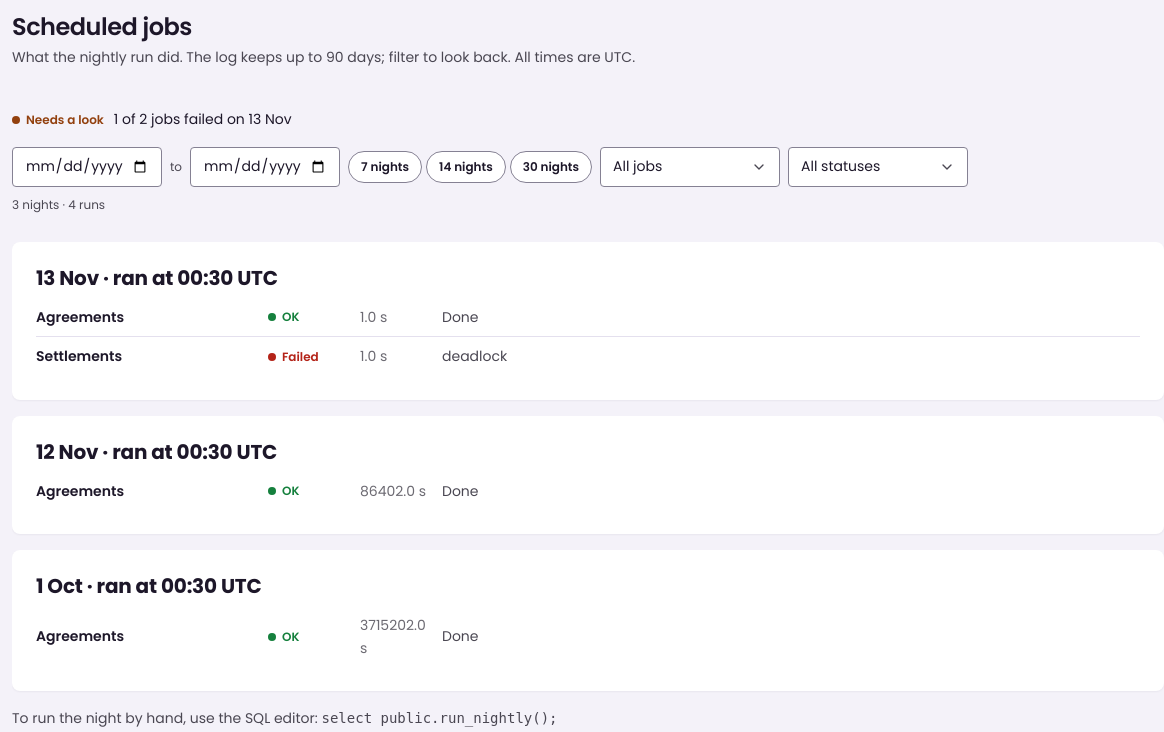
it: OperatorJobs › filters › filters by status and job, and the health line stays on the latest night
Expected: the text "3 nights · 4 runs" is shown, [12,196,105,213]
Click the dropdown labelled "status" at (878, 167), box [788,147,968,187]
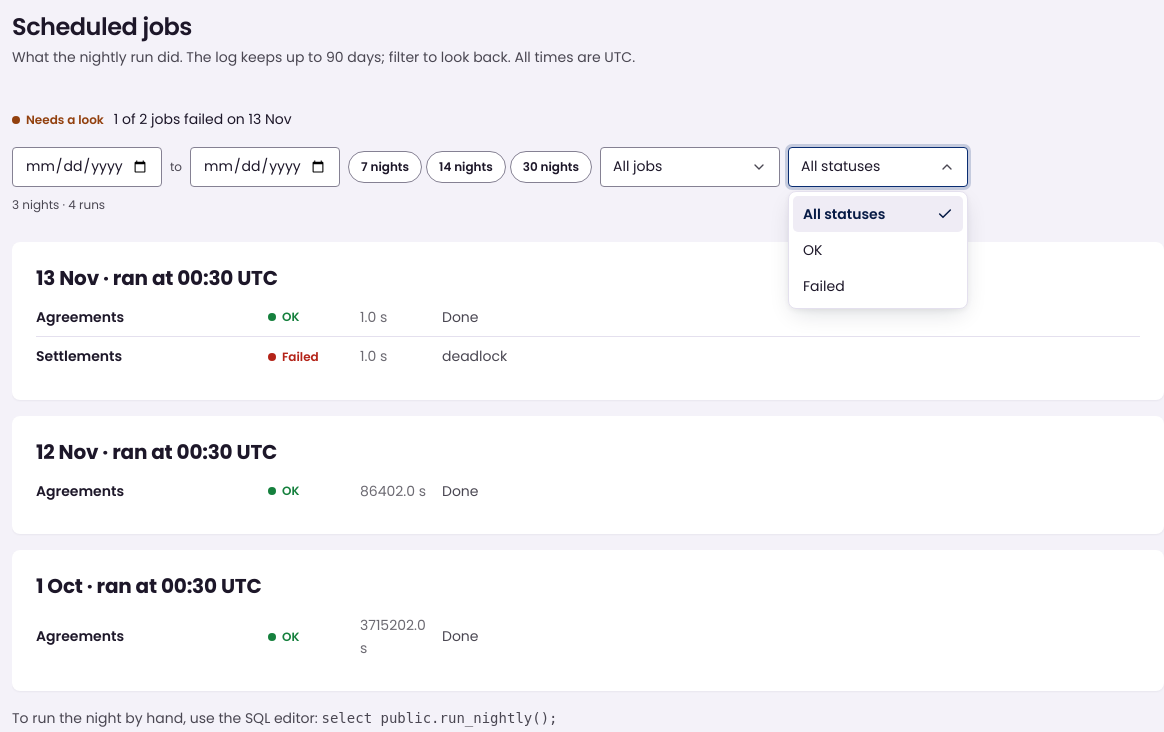
Click the option "Failed" at (824, 286), box [803,276,845,296]
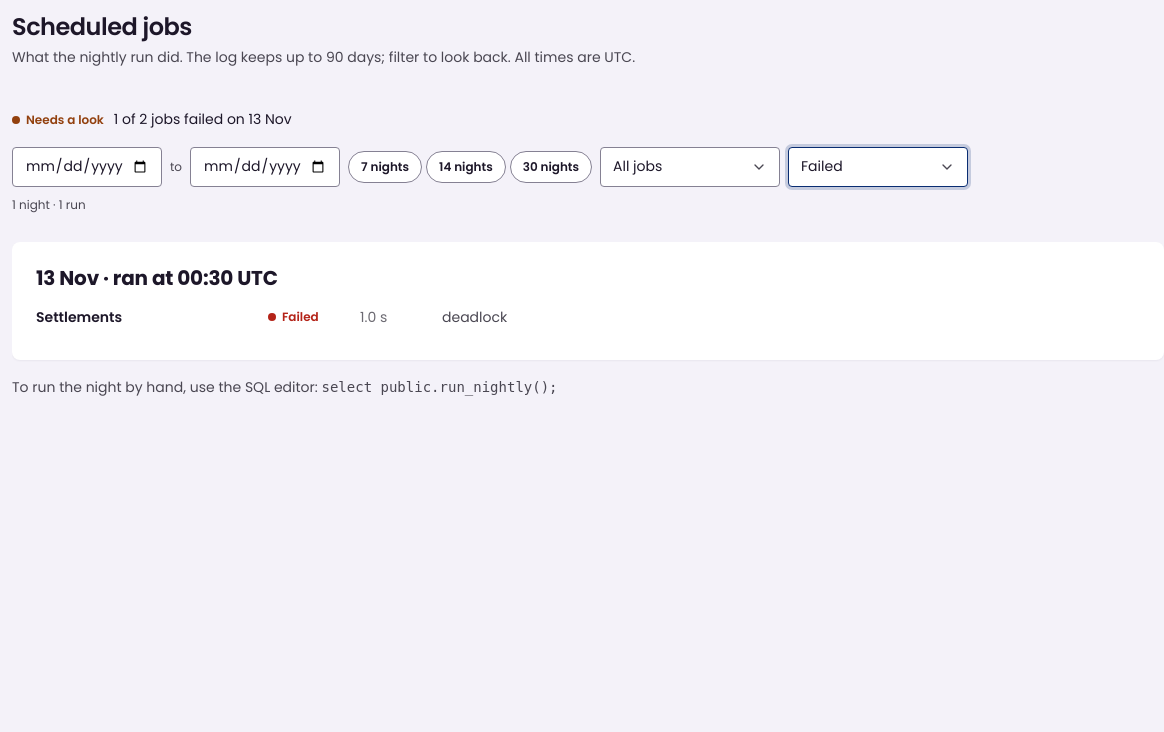
Expected: the text "1 of 2 jobs failed on 13 Nov" is shown, [114,108,292,131]
Result: the text "1 night · 1 run" is shown at [12,196,86,213]
Click the dropdown named "Status" at (878, 167), box [788,147,968,187]
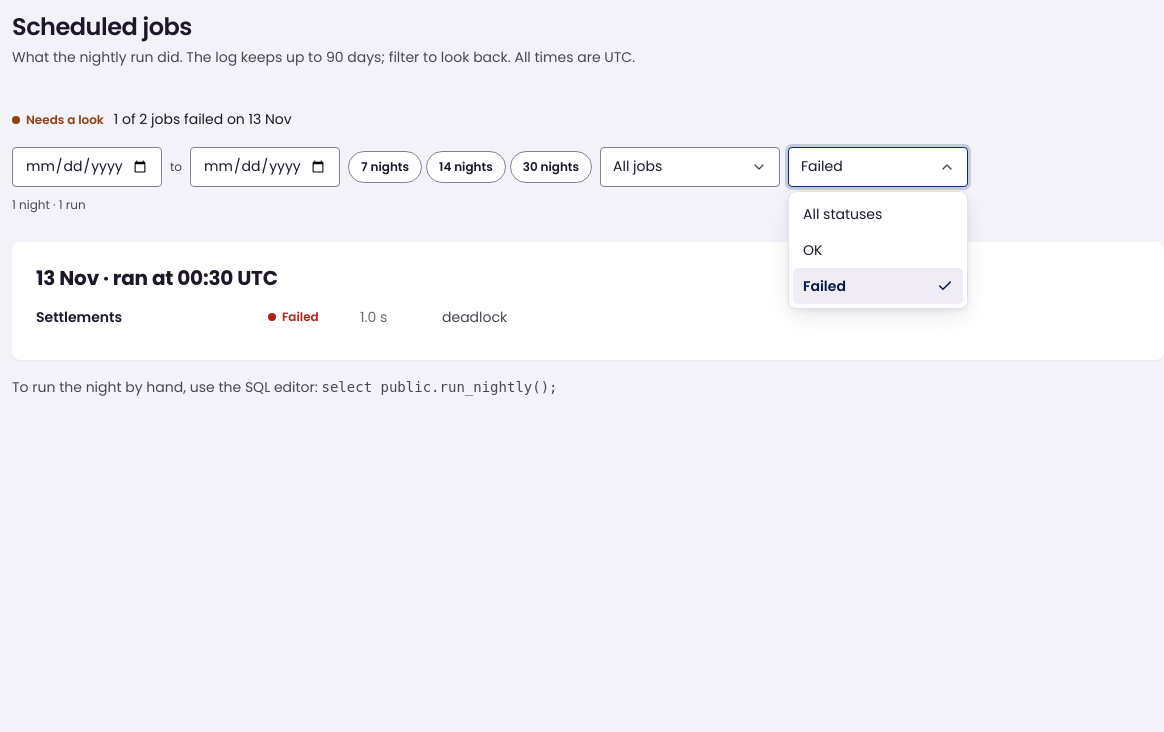
Click the option "All statuses" at (843, 214), box [803,204,882,224]
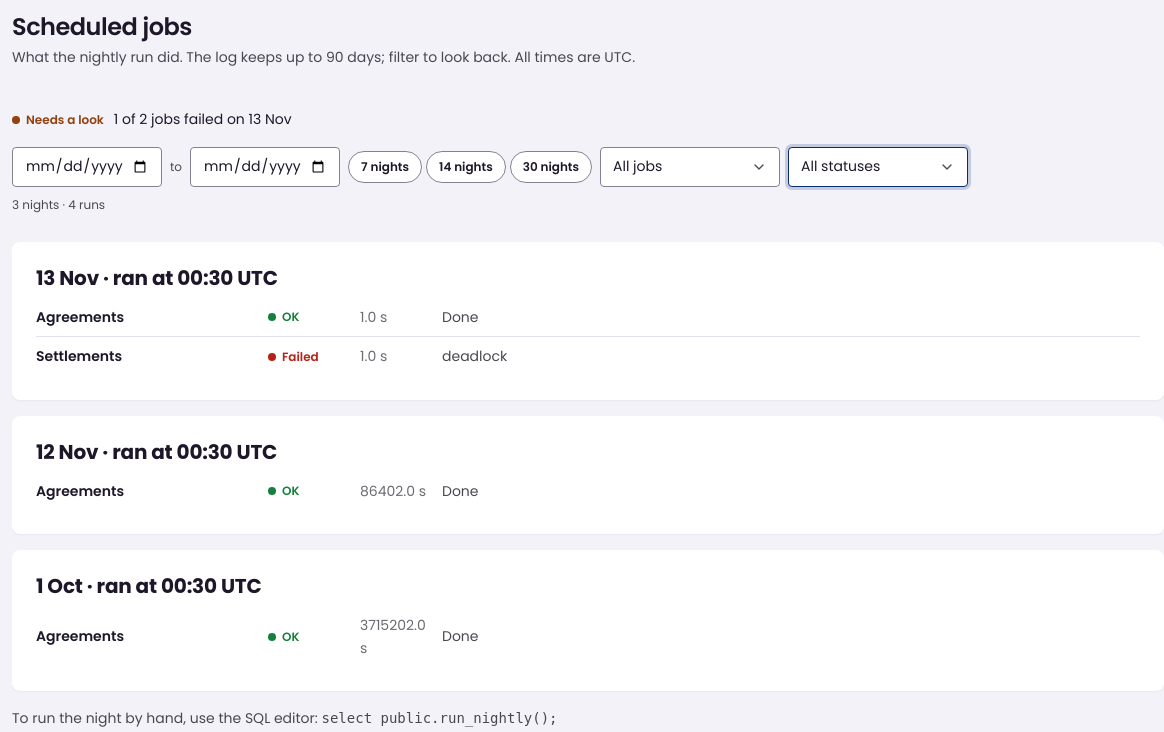
Click the dropdown labelled "job" at (690, 167), box [600,147,780,187]
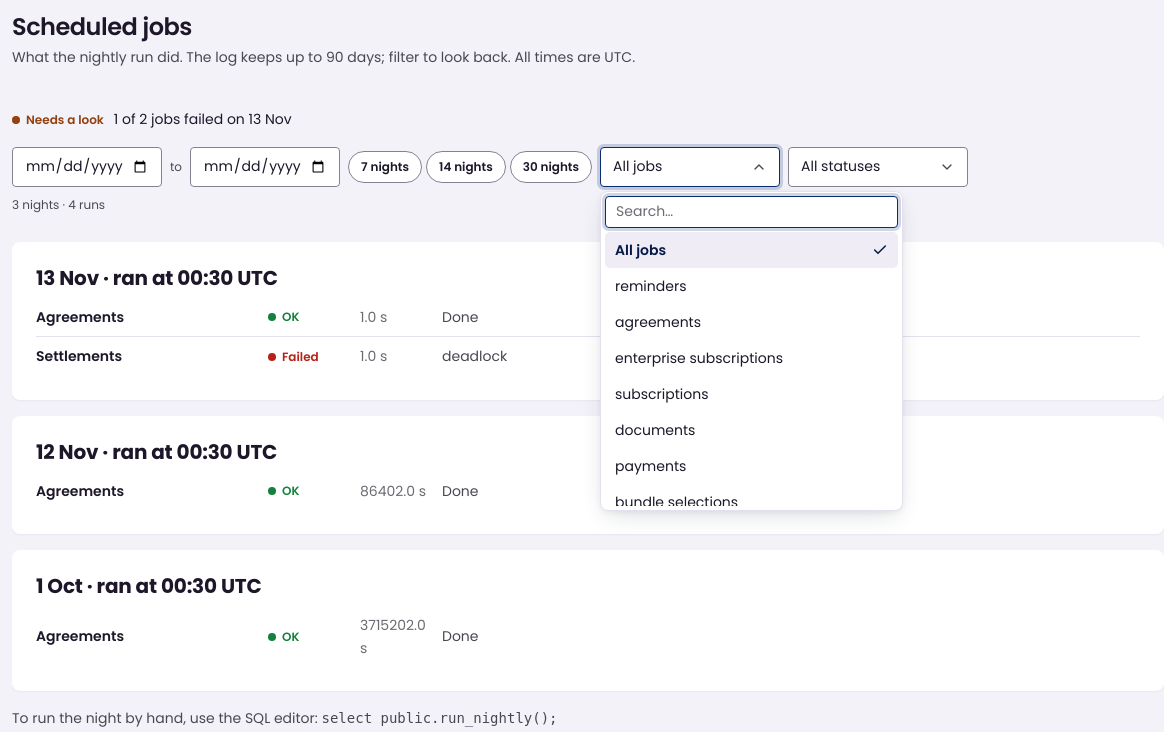
Click the option "agreements" at (658, 322), box [615,312,701,332]
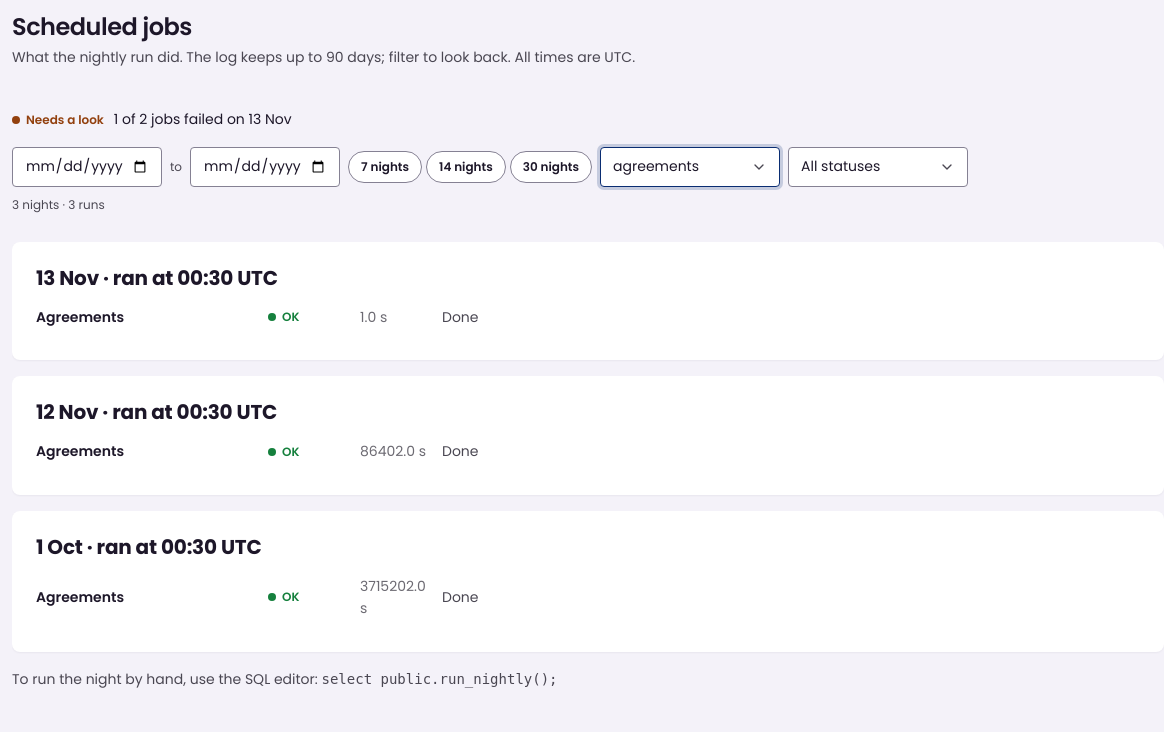
Result: the text "3 nights · 3 runs" is shown at [12,196,105,213]
Result: the text "deadlock" is gone
